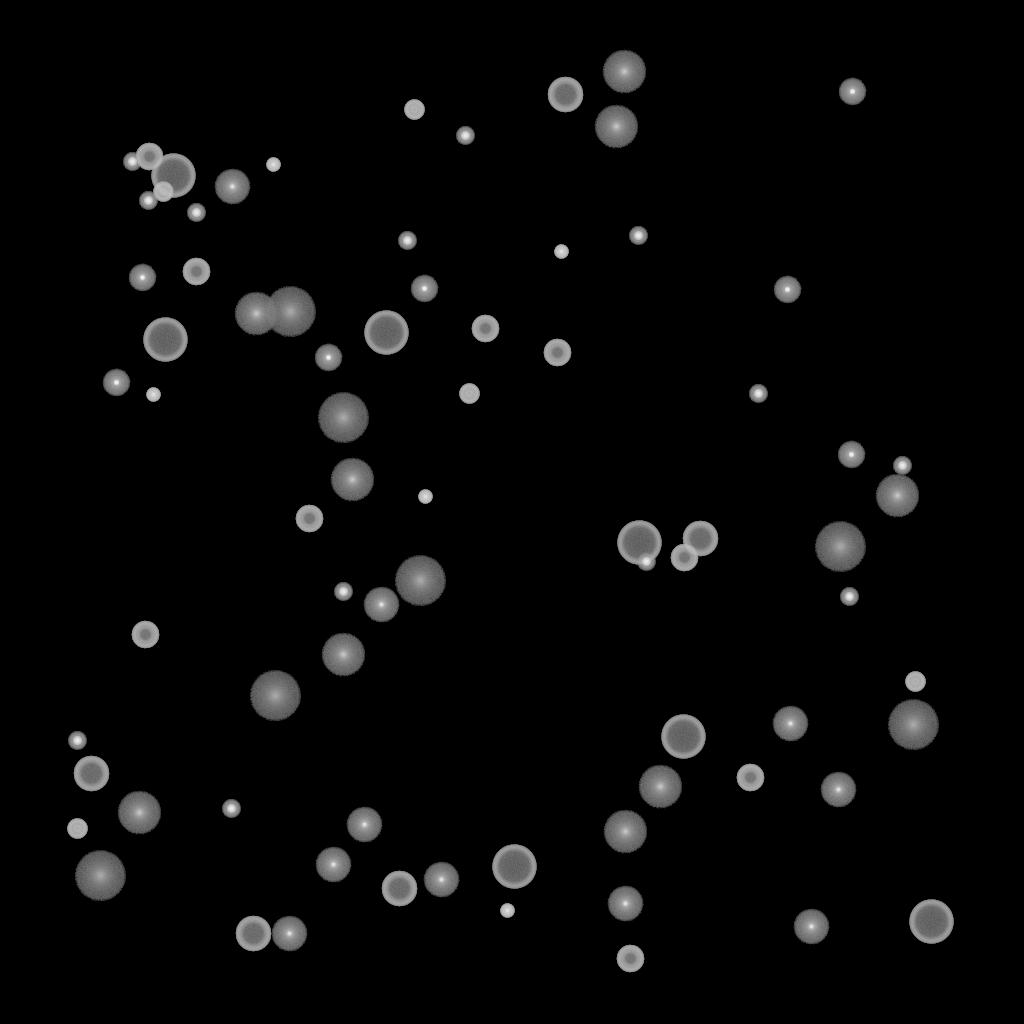depth:-10: (838, 78, 866, 106), (314, 344, 342, 372), (128, 264, 156, 292), (773, 276, 801, 304), (837, 441, 865, 469), (410, 275, 438, 303), (102, 369, 130, 397)
depth:-20: (629, 227, 647, 245), (222, 800, 240, 818), (637, 553, 655, 571), (334, 583, 352, 601), (398, 232, 416, 250), (749, 385, 767, 403), (68, 732, 86, 750), (893, 457, 911, 475), (123, 153, 141, 171), (456, 127, 474, 145), (187, 204, 205, 222), (840, 588, 858, 606), (139, 192, 157, 210)
depth:-30: (554, 245, 568, 259), (146, 388, 160, 402), (418, 490, 432, 504), (266, 158, 280, 172), (500, 904, 514, 918)
depth:-40: (404, 100, 424, 120), (67, 819, 87, 839), (905, 672, 925, 692), (153, 182, 173, 202), (459, 384, 479, 404)
depth:-50: (670, 544, 698, 572), (295, 505, 323, 533), (135, 143, 163, 171), (182, 258, 210, 286), (736, 764, 764, 792), (471, 315, 499, 343), (616, 945, 644, 973), (543, 339, 571, 367), (131, 621, 159, 649)
depth:-60: (381, 871, 417, 907), (547, 77, 583, 113), (235, 916, 271, 952), (682, 521, 718, 557), (73, 756, 109, 792)
depth:-70: (617, 521, 661, 565), (909, 900, 953, 944), (492, 845, 536, 889), (151, 154, 195, 198), (143, 318, 187, 362), (364, 311, 408, 355), (661, 715, 705, 759)
depth:0: (607, 886, 643, 922), (346, 807, 382, 843), (214, 169, 250, 205), (772, 706, 808, 742), (315, 847, 351, 883), (793, 909, 829, 945), (820, 772, 856, 808), (271, 916, 307, 952), (423, 862, 459, 898), (363, 587, 399, 623)
depth:10: (603, 810, 647, 854), (330, 458, 374, 502), (117, 791, 161, 835), (234, 292, 278, 336), (875, 474, 919, 518), (602, 50, 646, 94), (321, 633, 365, 677), (638, 765, 682, 809), (594, 105, 638, 149)
depth:20: (264, 287, 316, 337), (814, 522, 866, 572), (887, 700, 939, 750), (394, 556, 446, 606), (249, 671, 301, 721), (317, 393, 369, 443), (74, 851, 126, 901)
